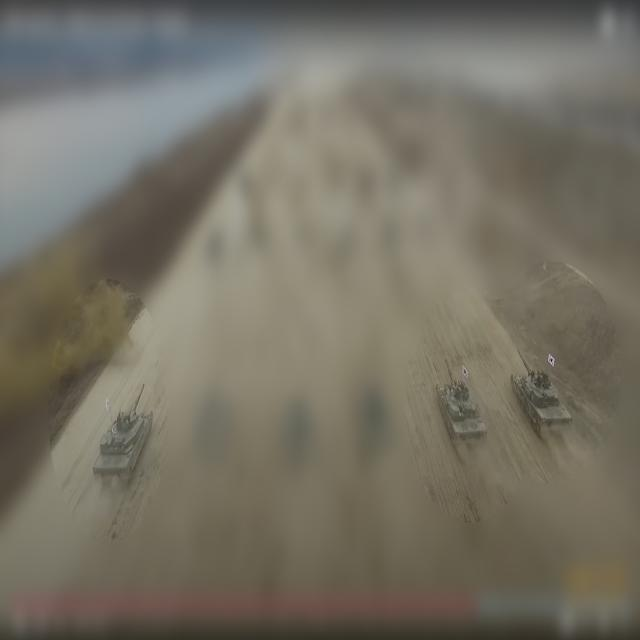tank: (92, 383, 152, 479), (511, 346, 573, 434), (438, 355, 489, 442)
